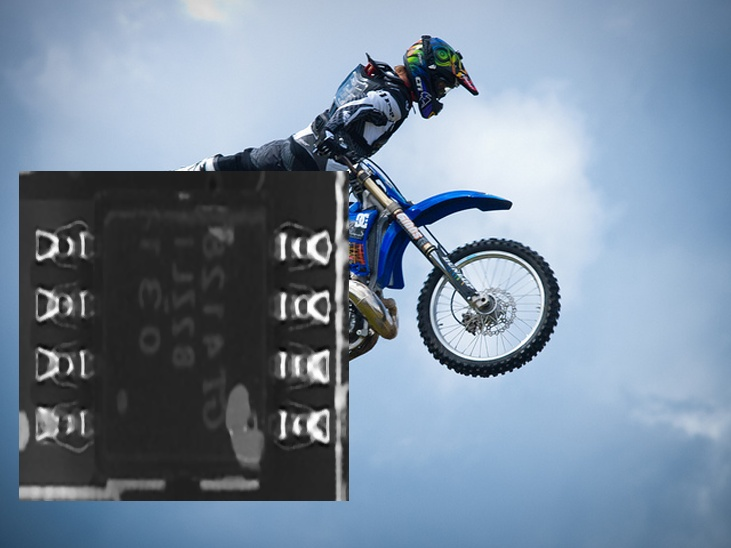PAD: (254, 201, 339, 457), (22, 206, 106, 456)
motorcycle: (132, 117, 561, 485)
